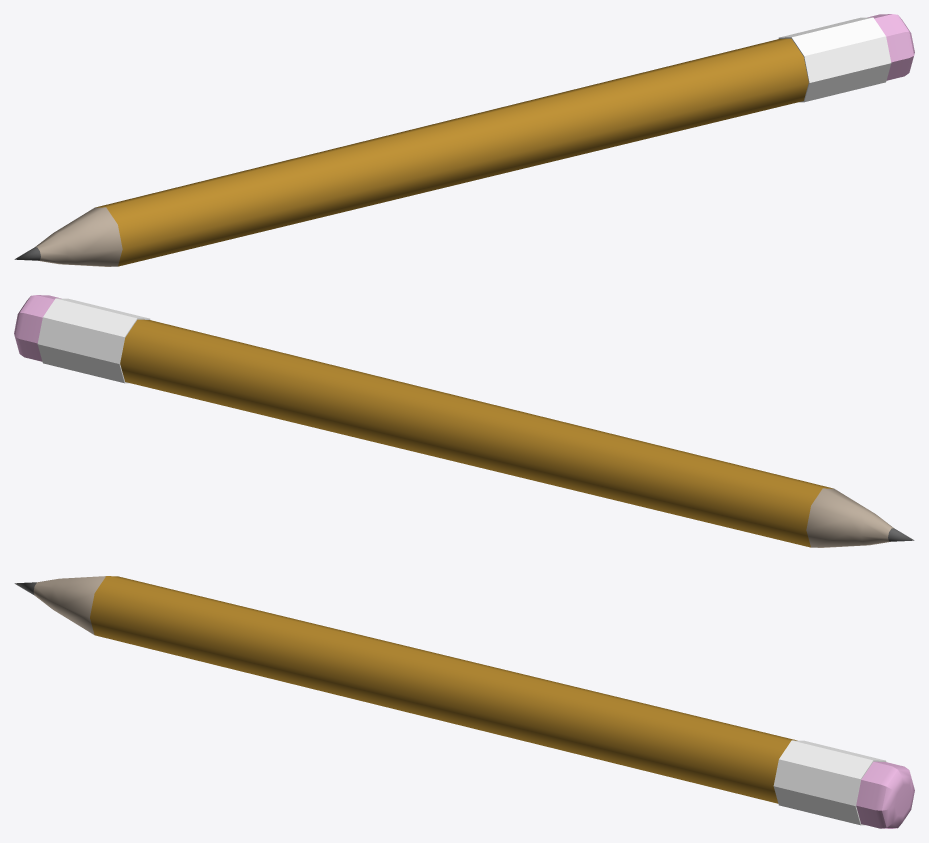
The picture shows the model from 3 angles, top to bottom: view 1: azimuth 30°, elevation 25°; view 2: azimuth 150°, elevation 25°; view 3: azimuth 330°, elevation 25°; orthographic projection.
Parts seen in each view (by area): view 1: pencil; view 2: pencil; view 3: pencil.
Boxes of the visible parts, bbox=[...] form: pencil: bbox=[14, 14, 914, 266]; pencil: bbox=[14, 295, 914, 547]; pencil: bbox=[14, 576, 914, 828].
Bounding box in the file's own units: 8.02 × 0.5617 × 0.5617.
